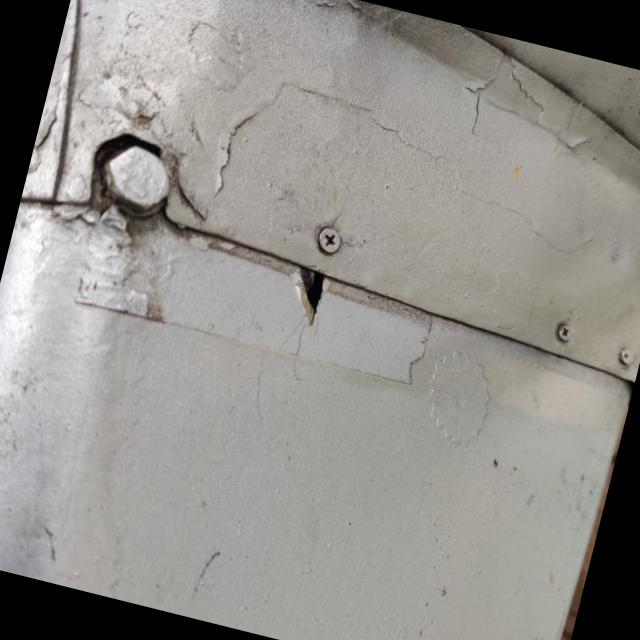Crack: (295, 267, 324, 325)
